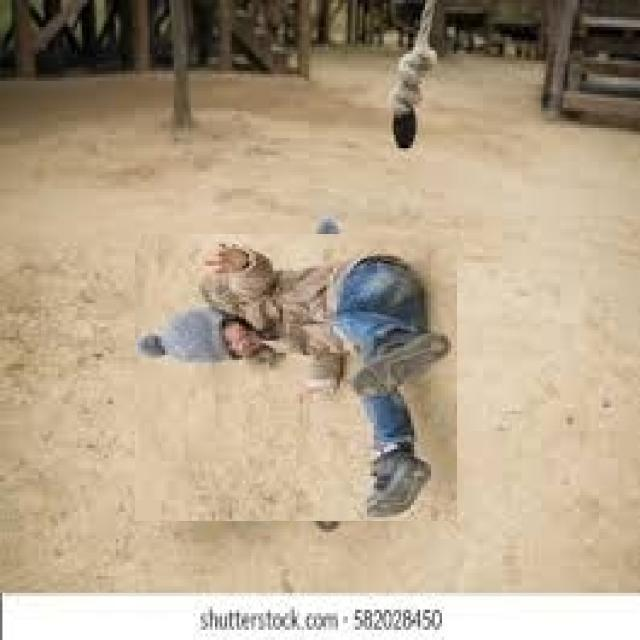Fall: (129, 182, 459, 512)
